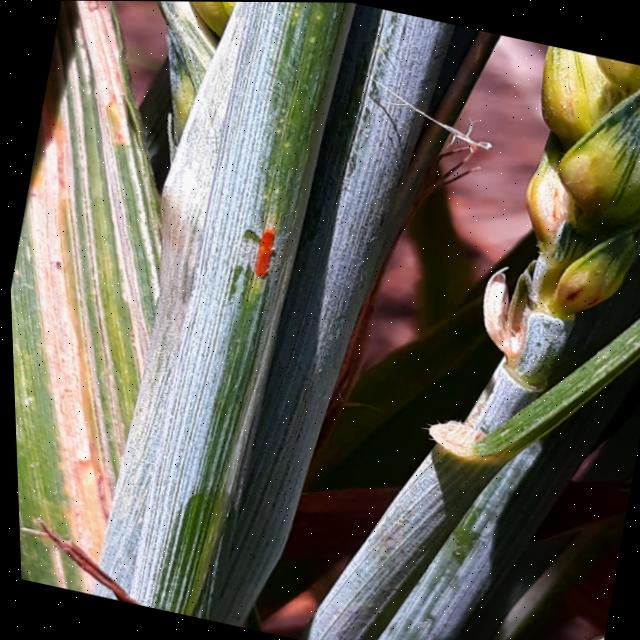black_stem_rust: (0, 0, 359, 625)
